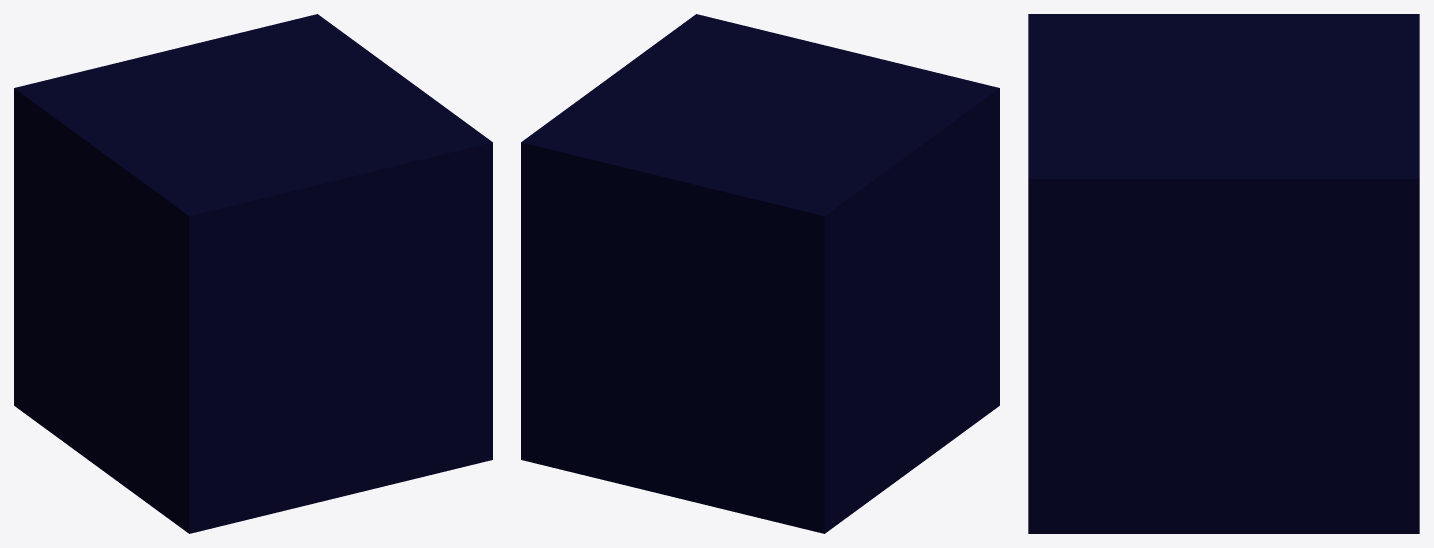
The model's file is course_model_V.obj.
3 views of the same model, side by side, from view 1: azimuth 30°, elevation 25°; view 2: azimuth 150°, elevation 25°; view 3: azimuth 270°, elevation 25° (orthographic). The views are drawn at different scales.
Visible parts, largest first — view 1: polygon1; view 2: polygon1; view 3: polygon1.
Part boxes in pixels (box(x1,y1,x2,y2)): polygon1: box(14, 14, 492, 533); polygon1: box(521, 14, 999, 533); polygon1: box(1028, 14, 1419, 533).
Bounding box in the file's own units: 9.69 × 9.69 × 9.69.
Materials: 4 (4 with a texture image).
